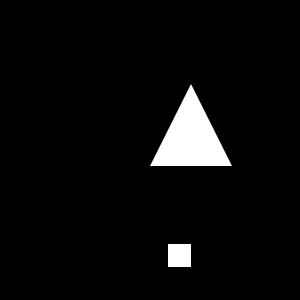circle: (168, 244, 191, 267)
triangle: (150, 84, 232, 166)
